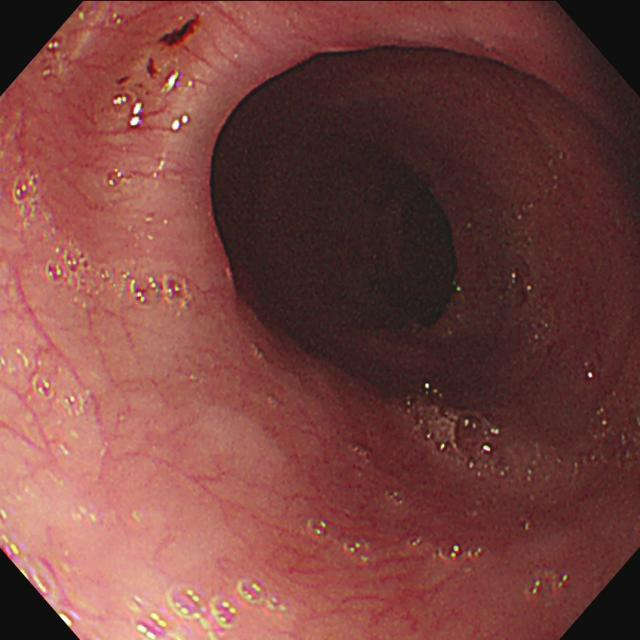D: (156, 16, 201, 48), (146, 57, 159, 80), (115, 76, 131, 85)
E: (356, 156, 478, 346)
T: (414, 407, 640, 478), (45, 239, 188, 308), (134, 578, 267, 640), (30, 375, 92, 416), (408, 535, 489, 565), (14, 171, 44, 230)
U: (21, 558, 82, 629), (113, 95, 141, 128), (2, 536, 21, 560), (172, 114, 193, 132), (163, 71, 180, 93)
